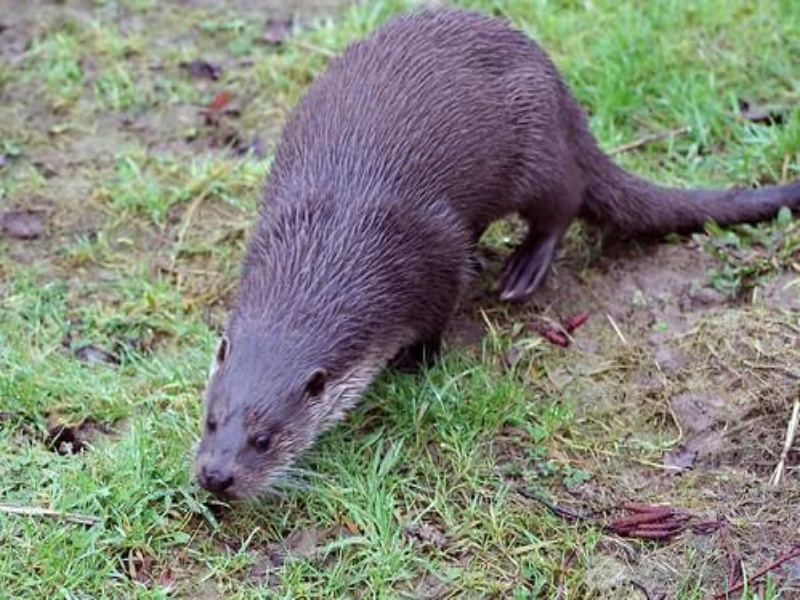minkish: (188, 1, 791, 527)
